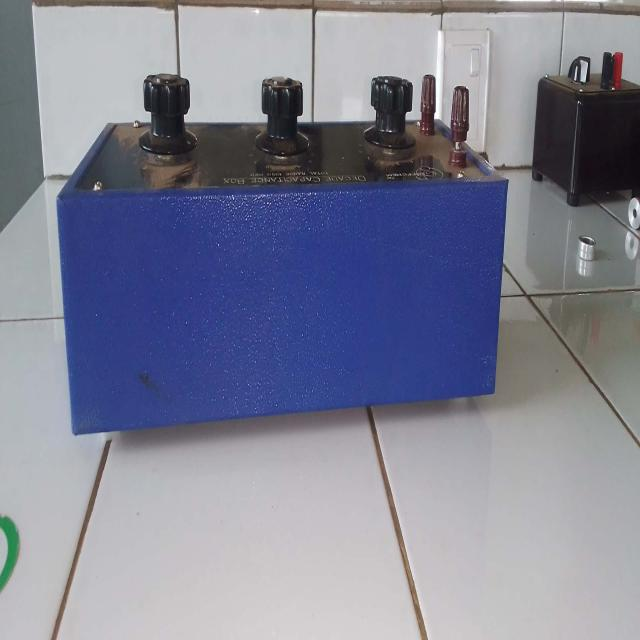Decade Capacitor Box: (47, 59, 517, 442)
